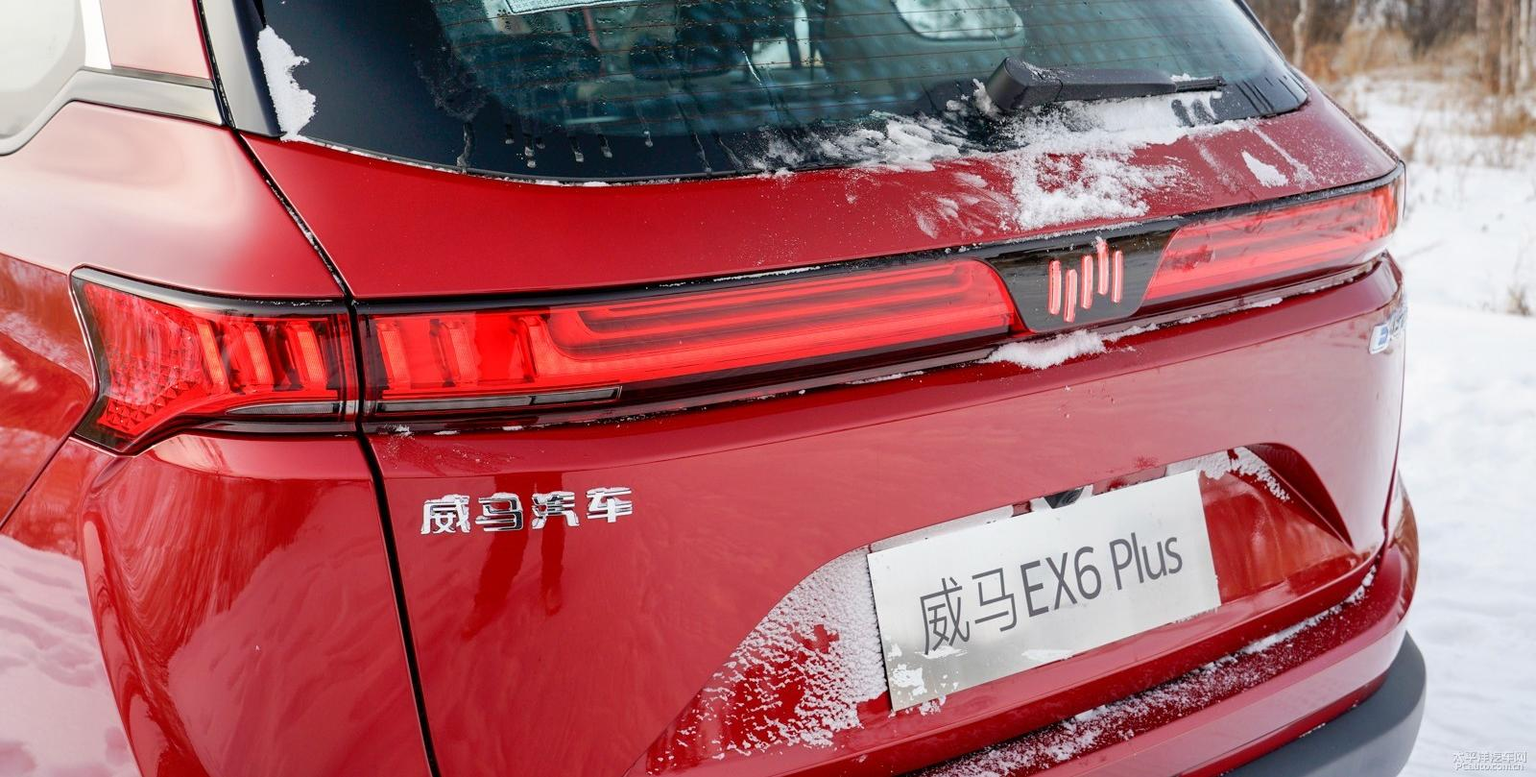WELTMEISTER: (1050, 246, 1122, 321)
